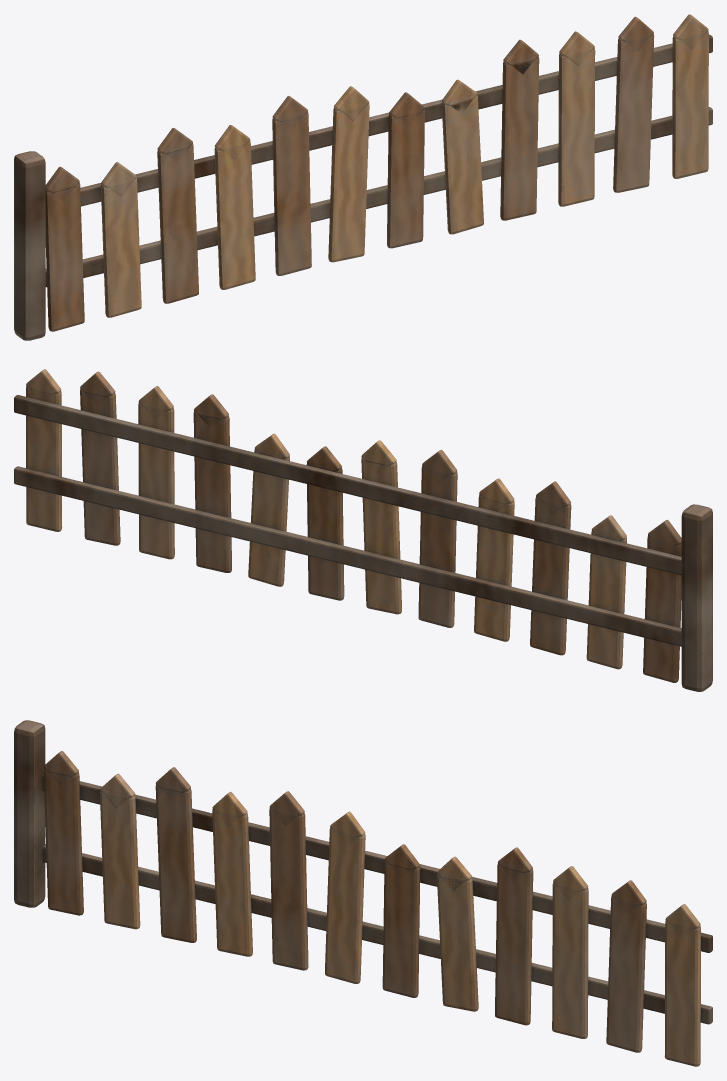
The model's file is fence_low_a.glb.
The picture shows the model from 3 angles, top to bottom: view 1: azimuth 30°, elevation 25°; view 2: azimuth 150°, elevation 25°; view 3: azimuth 330°, elevation 25°; orthographic projection.
Parts seen in each view (by area): view 1: FenceLow_Mesh; view 2: FenceLow_Mesh; view 3: FenceLow_Mesh.
Part boxes in pixels (left/top/right/bottom): FenceLow_Mesh: left=14, top=14, right=712, bottom=340; FenceLow_Mesh: left=14, top=369, right=712, bottom=691; FenceLow_Mesh: left=14, top=720, right=712, bottom=1066.
Size of the model in its own units: 4.04 by 1 by 0.13.
Materials: 1 (1 with a texture image).
